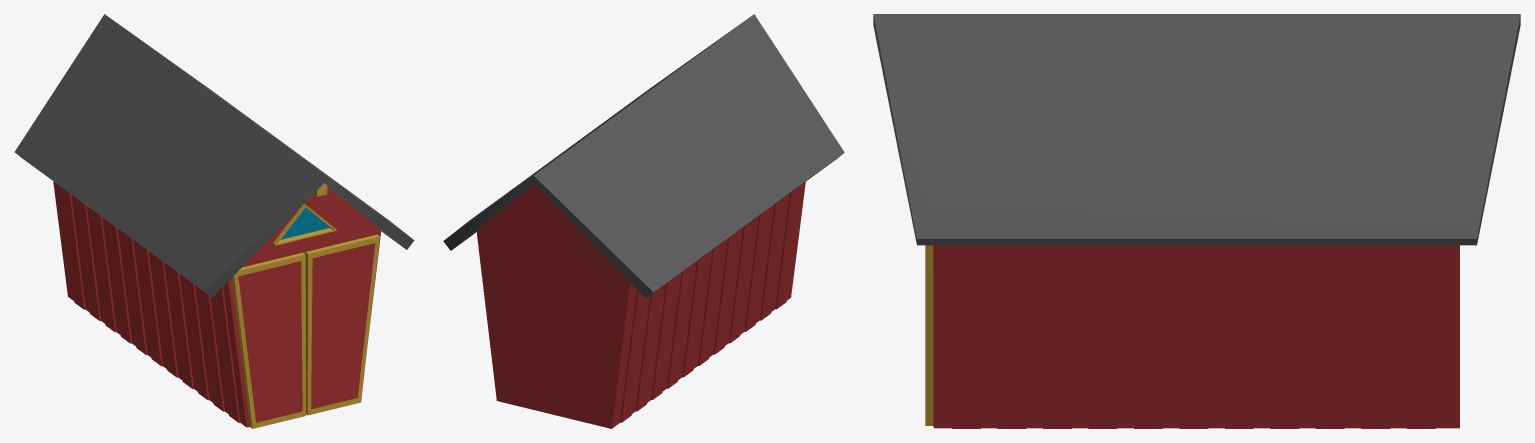
The model's file is house.fbx.
3 renders of one model, left to right at view 1: azimuth 30°, elevation 25°; view 2: azimuth 150°, elevation 25°; view 3: azimuth 270°, elevation 25°, orthographic. The views are drawn at different scales.
Visible parts, largest first — view 1: pCube17; view 2: pCube17; view 3: pCube17.
Boxes of the visible parts, x1,y1,x2,y2 form: pCube17: [14, 14, 414, 428]; pCube17: [443, 14, 844, 428]; pCube17: [873, 14, 1520, 428].
Size of the model in its own units: 38.45 by 44.43 by 69.85.
